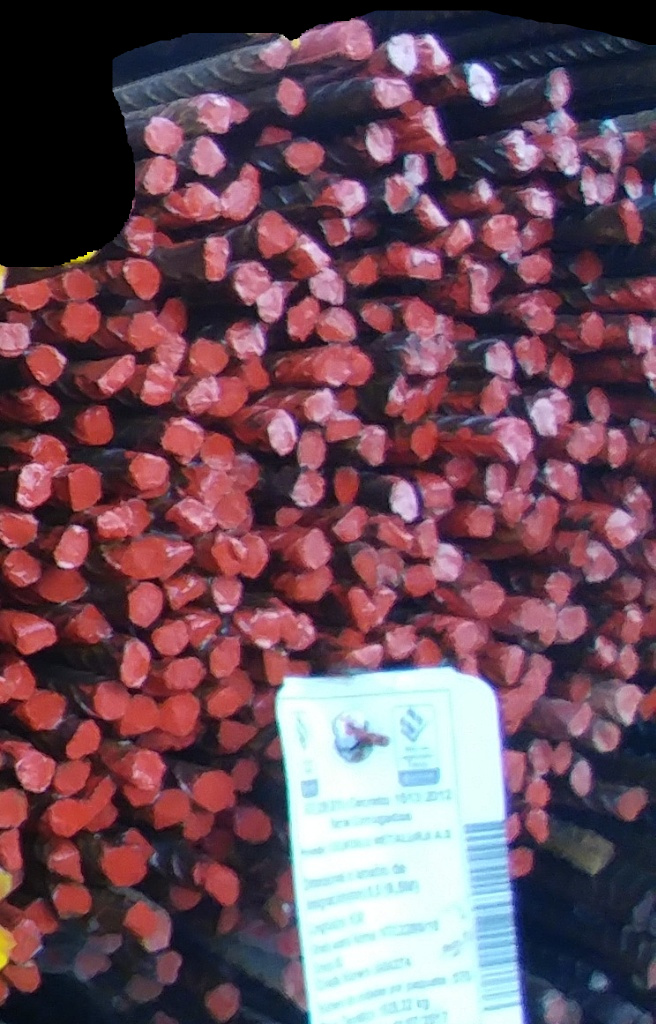dipstick: (122, 540, 168, 579), (127, 582, 165, 627), (258, 211, 293, 257), (98, 354, 137, 395), (221, 179, 259, 221), (156, 693, 198, 731), (38, 569, 87, 601), (62, 302, 100, 343), (160, 417, 202, 454), (144, 117, 182, 157), (120, 696, 157, 737), (217, 493, 253, 535), (68, 468, 102, 512), (189, 339, 228, 377), (124, 261, 161, 301), (27, 694, 67, 731), (102, 845, 142, 882), (16, 754, 54, 792), (27, 346, 64, 385), (4, 279, 51, 309), (195, 773, 232, 811), (544, 459, 579, 499), (55, 526, 87, 569), (209, 378, 246, 415), (191, 136, 226, 175), (185, 182, 219, 222), (51, 886, 92, 919), (76, 604, 112, 641), (51, 799, 87, 836), (318, 307, 356, 342), (3, 550, 41, 585), (585, 136, 624, 170), (94, 682, 128, 721), (122, 638, 149, 687), (268, 410, 296, 457), (286, 297, 317, 339), (174, 501, 216, 532), (1, 513, 38, 548), (165, 658, 204, 691), (19, 466, 50, 507), (10, 921, 41, 962), (385, 176, 419, 213), (309, 272, 346, 306), (421, 339, 458, 373), (166, 575, 204, 608), (285, 142, 324, 174), (141, 365, 173, 404), (388, 33, 416, 77), (14, 625, 58, 653), (64, 268, 100, 302), (404, 251, 443, 282), (33, 437, 67, 472), (334, 506, 368, 541), (67, 723, 101, 758), (132, 752, 166, 787), (152, 621, 186, 656), (144, 158, 177, 194), (132, 455, 168, 488), (296, 568, 332, 601), (155, 792, 187, 829), (213, 538, 244, 576), (358, 425, 386, 467), (320, 348, 350, 387), (157, 334, 186, 374), (503, 421, 532, 461), (562, 699, 591, 739), (236, 266, 269, 301), (197, 96, 228, 133), (4, 661, 35, 698), (202, 237, 228, 281), (517, 336, 547, 374), (84, 407, 114, 445), (248, 610, 278, 648), (349, 589, 376, 631), (498, 692, 523, 737), (519, 220, 554, 252), (292, 472, 324, 507), (207, 983, 239, 1018), (471, 582, 503, 617), (417, 195, 448, 231), (202, 434, 233, 470), (211, 577, 242, 613), (207, 866, 238, 902), (377, 518, 413, 549), (188, 376, 218, 413), (209, 638, 238, 676), (422, 33, 448, 75), (303, 528, 331, 567), (403, 564, 436, 597), (404, 300, 436, 334), (621, 199, 644, 246), (558, 531, 588, 567), (51, 851, 84, 883), (237, 810, 270, 842), (98, 506, 132, 537), (1, 789, 28, 828), (347, 19, 372, 61), (586, 546, 616, 581), (74, 946, 103, 982), (522, 513, 551, 549), (468, 63, 494, 103), (298, 430, 324, 470), (585, 837, 613, 874), (469, 268, 491, 315), (410, 423, 437, 461), (126, 219, 153, 257), (303, 390, 336, 421), (568, 252, 602, 282), (55, 761, 89, 791), (336, 182, 365, 217), (277, 80, 305, 116), (375, 79, 411, 107), (552, 138, 580, 174), (258, 281, 282, 323), (218, 724, 254, 752), (354, 547, 378, 589), (346, 646, 386, 671), (491, 214, 518, 251), (131, 314, 162, 346), (28, 388, 59, 420), (186, 614, 217, 646), (618, 787, 649, 819), (367, 124, 393, 162), (333, 468, 359, 506), (545, 69, 570, 108), (447, 221, 473, 258), (476, 181, 507, 212), (348, 256, 379, 287), (385, 626, 416, 657), (234, 326, 264, 358), (1, 323, 31, 355), (484, 344, 512, 378), (607, 512, 635, 546), (378, 549, 403, 587), (480, 379, 505, 417), (4, 964, 39, 991), (244, 537, 267, 578), (232, 454, 258, 490), (559, 606, 585, 642), (578, 313, 604, 349), (361, 304, 391, 335), (224, 671, 253, 703), (605, 576, 642, 601), (616, 687, 641, 724), (526, 807, 551, 844), (507, 130, 528, 174), (392, 481, 416, 519), (627, 317, 653, 352), (1, 829, 23, 870), (383, 373, 405, 414), (446, 457, 476, 487), (528, 738, 553, 774), (548, 997, 584, 1022), (321, 219, 352, 248), (301, 236, 329, 268), (163, 299, 187, 336), (434, 547, 460, 581), (148, 911, 170, 951), (243, 358, 270, 390), (127, 498, 151, 534), (232, 760, 259, 792), (413, 521, 437, 557), (568, 426, 592, 462), (503, 752, 524, 793), (484, 464, 506, 503), (502, 647, 525, 684), (261, 41, 289, 71), (125, 902, 153, 932), (593, 721, 619, 753), (503, 487, 524, 526), (524, 308, 553, 336), (467, 506, 493, 537), (420, 107, 443, 142), (531, 402, 554, 437), (518, 257, 550, 282), (207, 692, 239, 717), (545, 572, 570, 604), (290, 616, 314, 649), (125, 979, 161, 1001), (549, 354, 573, 387), (185, 812, 212, 841), (607, 430, 627, 469), (591, 638, 616, 669), (568, 670, 593, 701), (403, 336, 422, 376), (434, 145, 457, 178), (348, 353, 371, 386), (527, 188, 552, 218), (265, 650, 287, 684), (29, 902, 53, 933), (254, 690, 275, 725), (403, 389, 424, 424), (426, 377, 447, 412), (207, 831, 234, 858), (201, 471, 230, 496), (157, 953, 182, 982), (517, 602, 542, 631), (572, 759, 591, 797), (259, 125, 291, 147), (376, 591, 396, 626), (621, 609, 641, 644), (406, 153, 428, 184), (587, 388, 609, 419), (91, 806, 117, 832), (91, 776, 118, 801), (452, 622, 477, 649), (508, 848, 532, 876), (422, 483, 451, 506), (515, 463, 538, 492), (328, 419, 358, 441), (624, 487, 651, 511), (526, 779, 550, 806), (554, 113, 577, 141), (172, 888, 201, 910), (124, 788, 159, 806), (503, 811, 522, 844), (521, 671, 544, 698), (619, 646, 639, 677), (623, 131, 645, 159), (217, 907, 239, 935), (540, 609, 557, 645), (581, 168, 597, 206), (597, 173, 616, 205), (353, 217, 377, 242), (276, 508, 302, 531), (417, 639, 439, 666), (537, 496, 559, 523), (623, 167, 642, 197), (91, 934, 124, 951), (553, 391, 569, 426), (553, 742, 571, 773), (278, 609, 296, 639), (291, 251, 309, 279), (229, 98, 249, 123), (454, 320, 476, 341), (630, 417, 648, 442), (6, 312, 34, 328), (437, 314, 453, 341), (527, 144, 544, 169), (597, 118, 621, 135), (592, 423, 605, 454), (531, 654, 551, 674), (240, 163, 261, 179)
